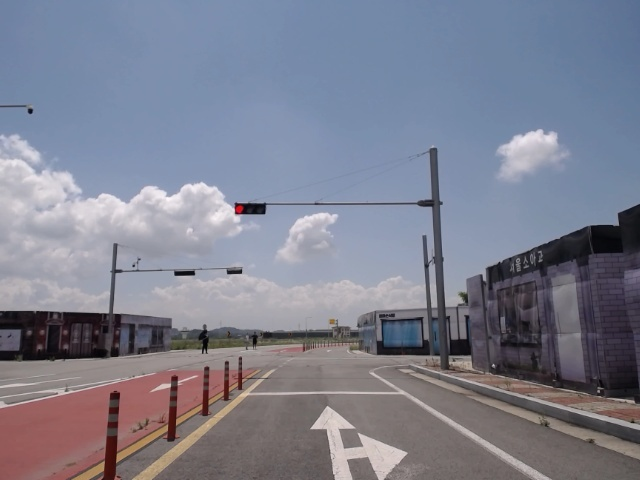red_3: (233, 202, 267, 214)
